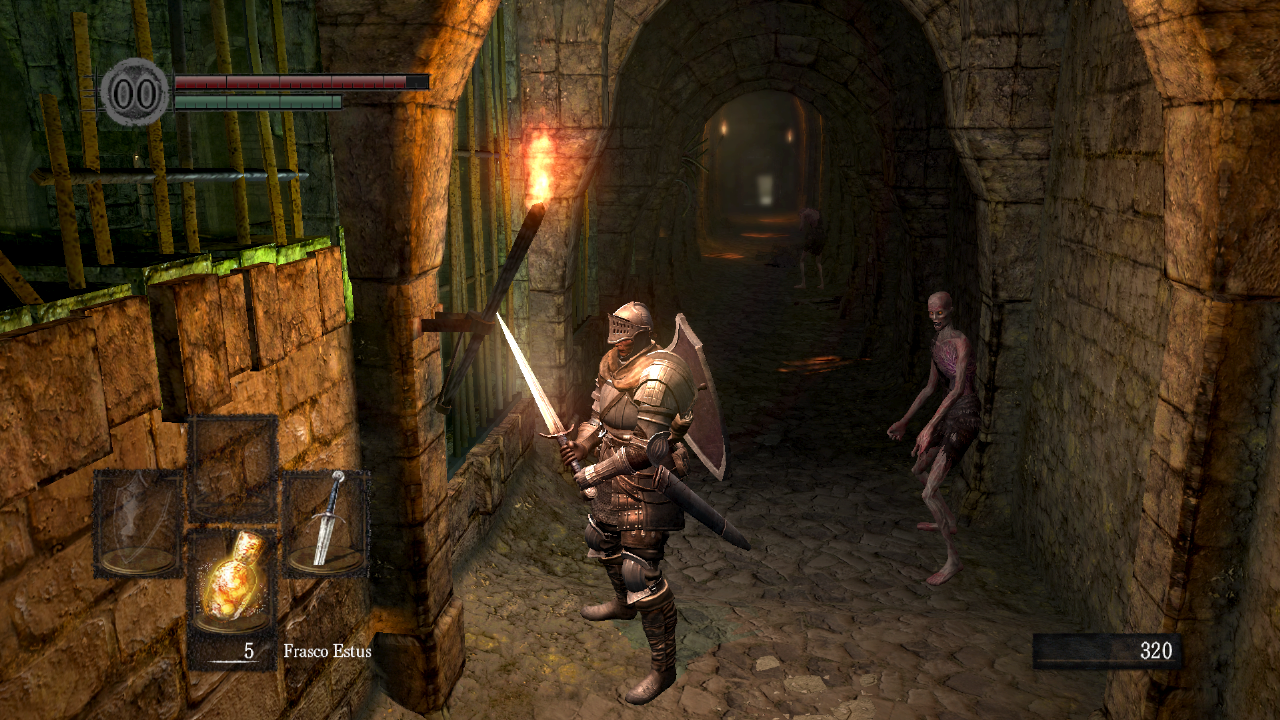hollow: (887, 290, 981, 586), (793, 207, 827, 289)
player: (497, 301, 751, 706)
